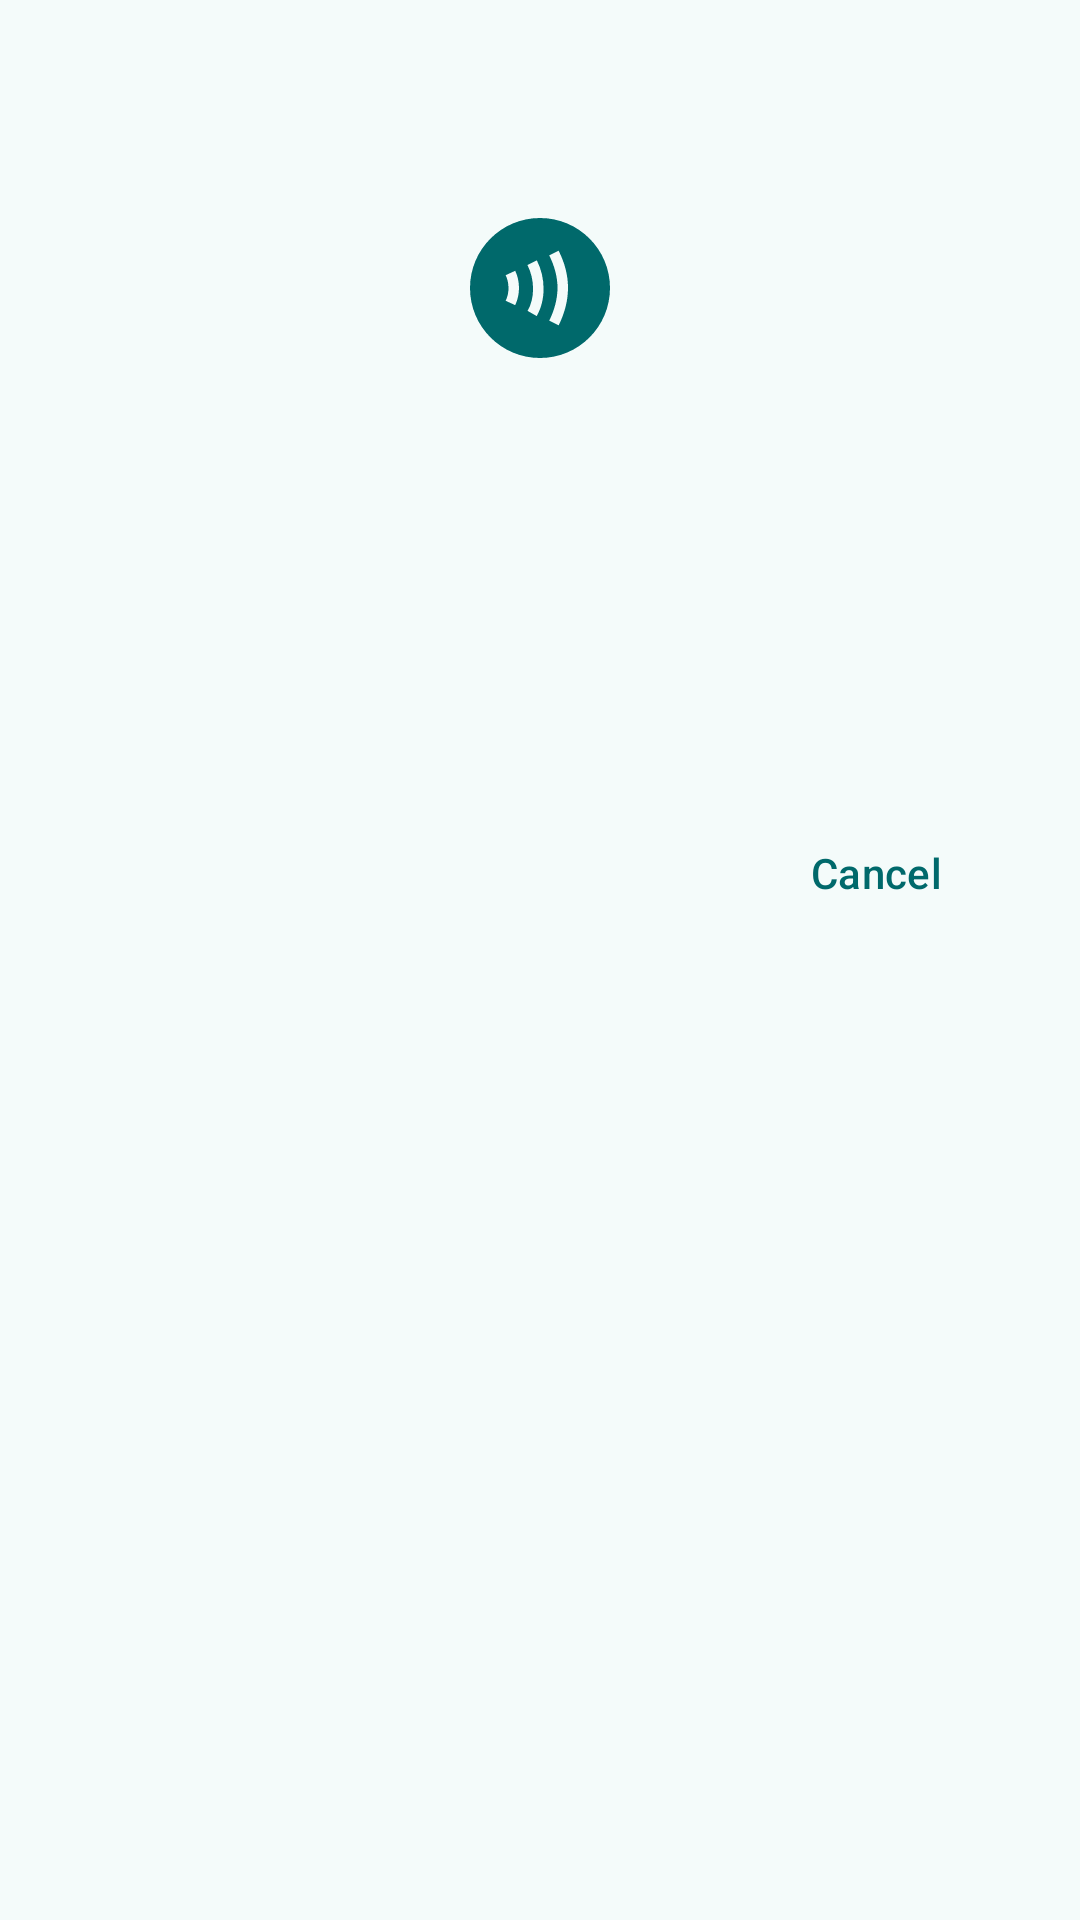

Where to tap for icons on this 1080×1920 app screen, as (x,y):
Contactless card: (540,288)
